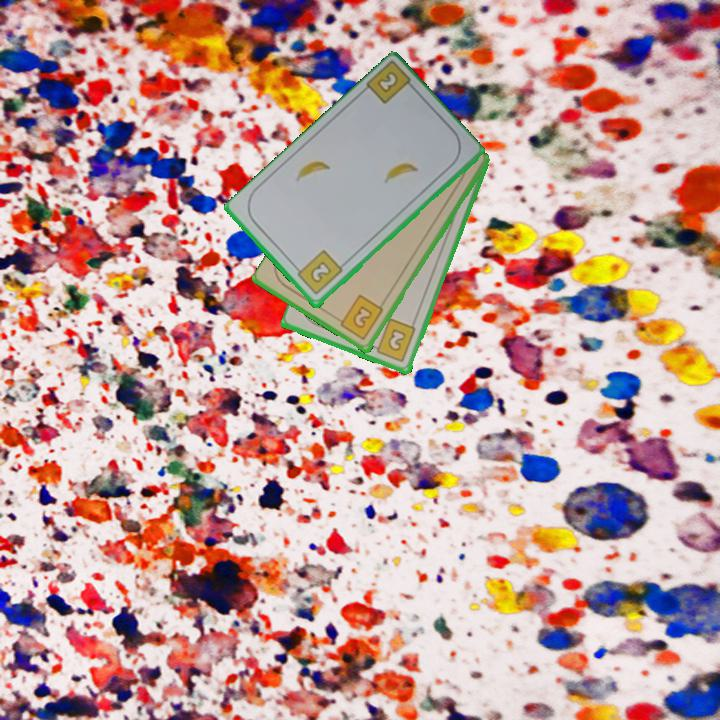2b: (291, 247, 346, 298), (332, 292, 386, 343), (368, 316, 419, 365), (373, 68, 401, 96)
